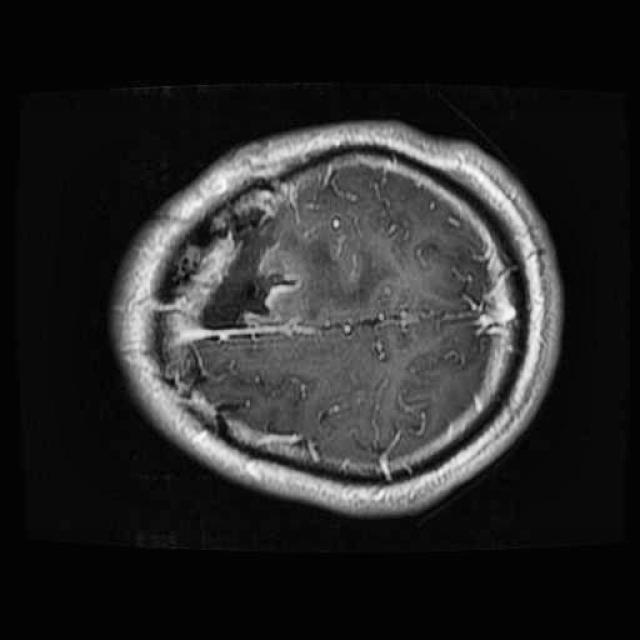Non-Tumor: (190, 194, 308, 358)
